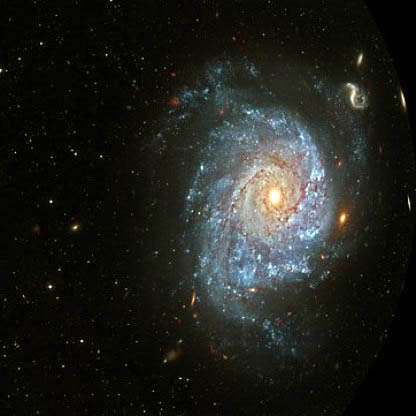NGC 1309: (144, 32, 384, 358)
